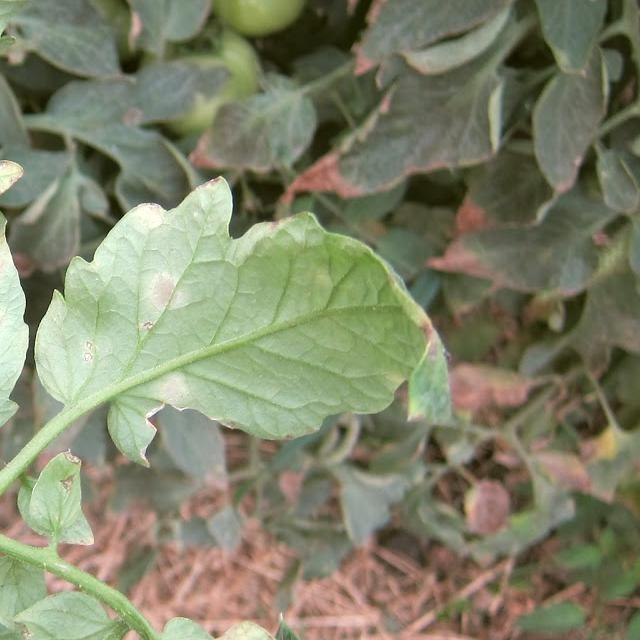Tomato mold leaf: (33, 175, 511, 452), (0, 0, 99, 164), (153, 607, 538, 640), (0, 203, 42, 453), (0, 582, 133, 640), (0, 574, 103, 640), (0, 119, 37, 246)
